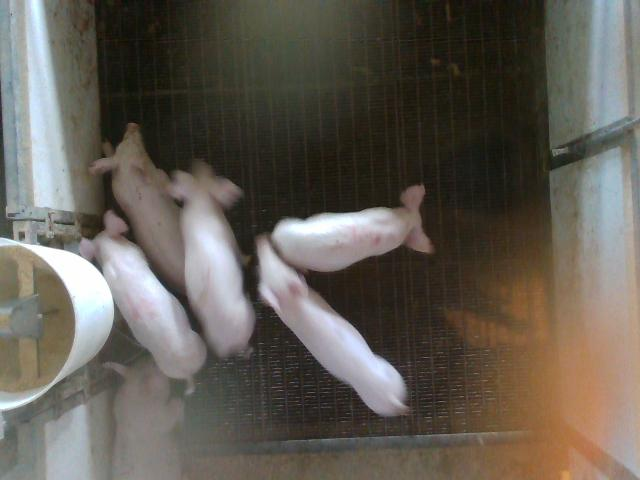pig-4: (79, 210, 206, 393)
pig-5: (271, 185, 433, 271)
